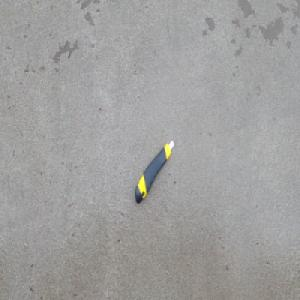Cutter: (134, 138, 174, 205)
